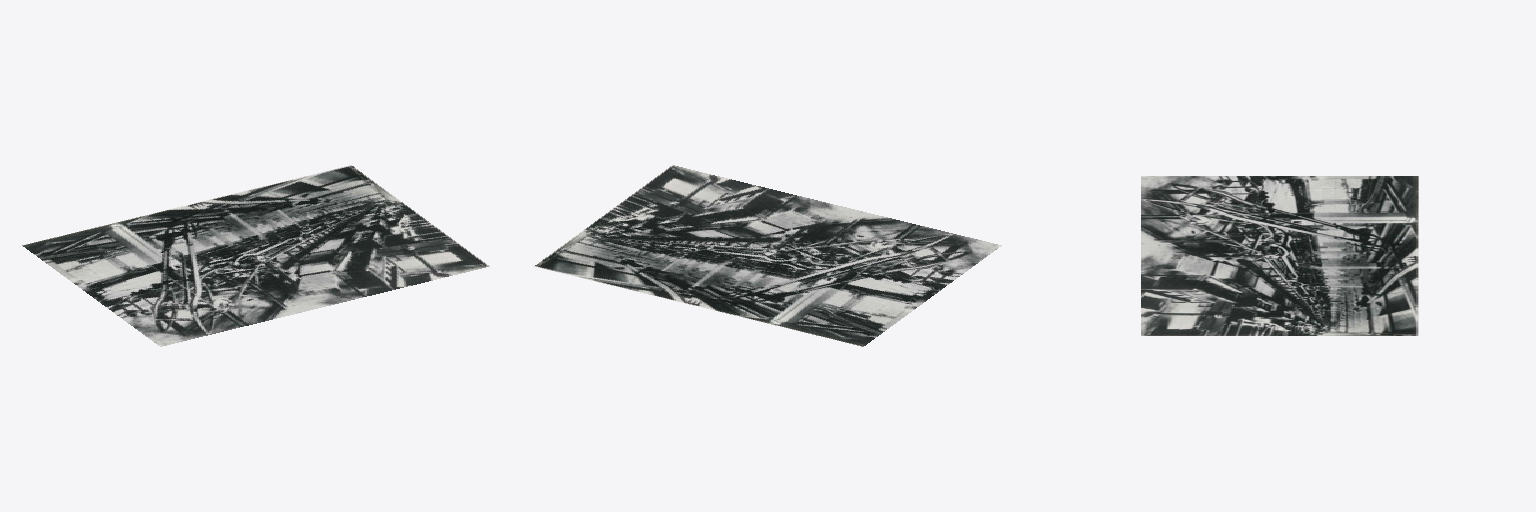
3 renders of one model, left to right at view 1: azimuth 30°, elevation 25°; view 2: azimuth 150°, elevation 25°; view 3: azimuth 270°, elevation 25°, orthographic.
Parts seen in each view (by area): view 1: Plane001; view 2: Plane001; view 3: Plane001.
Boxes of the visible parts, x1=… form: Plane001: x1=22, y1=165, x2=489, y2=346; Plane001: x1=534, y1=165, x2=1001, y2=346; Plane001: x1=1141, y1=176, x2=1418, y2=335.
Bounding box in the file's own units: 2.69 × 0 × 1.96.
Materials: 1 (1 with a texture image).